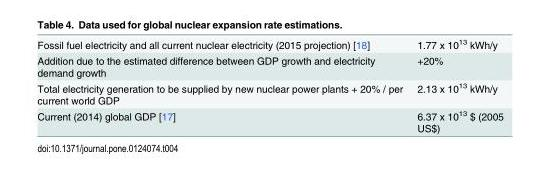table: (36, 37, 502, 133)
table column: (36, 37, 409, 133), (409, 37, 502, 133)
table row: (36, 79, 502, 107), (36, 52, 502, 79), (36, 107, 502, 133), (36, 37, 502, 52)
